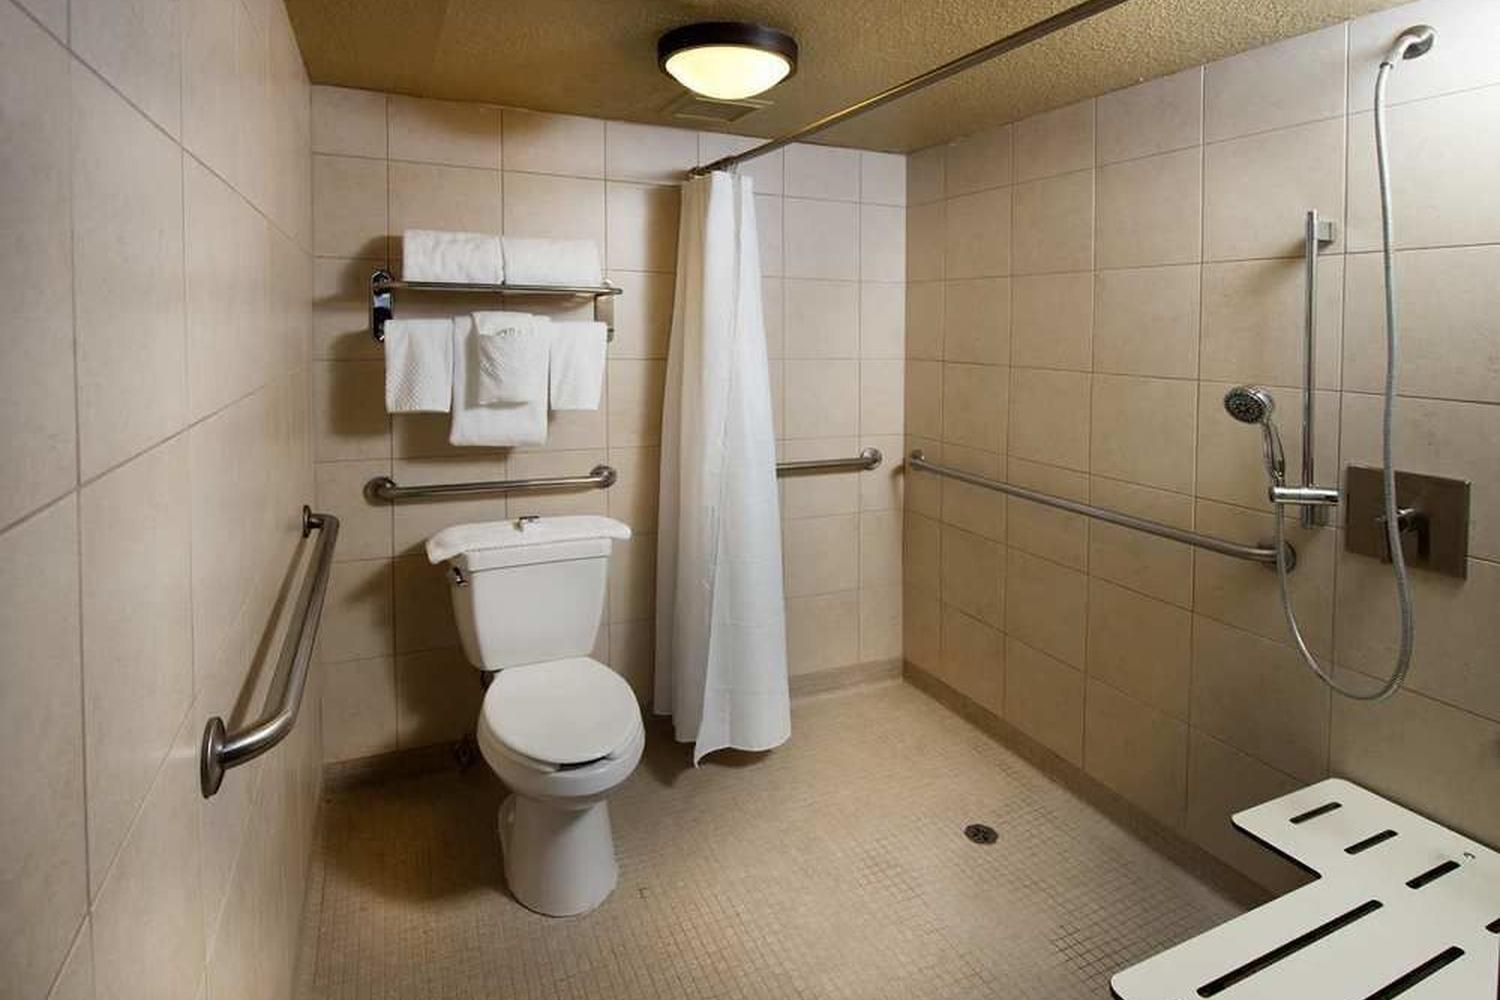curtain: (654, 158, 790, 770)
restroom_assist_bar: (910, 448, 1296, 573), (201, 504, 342, 798), (1267, 211, 1342, 529), (363, 464, 616, 504), (775, 446, 885, 478)
toilet: (426, 516, 646, 917)
toilet_handle: (442, 562, 468, 587)
